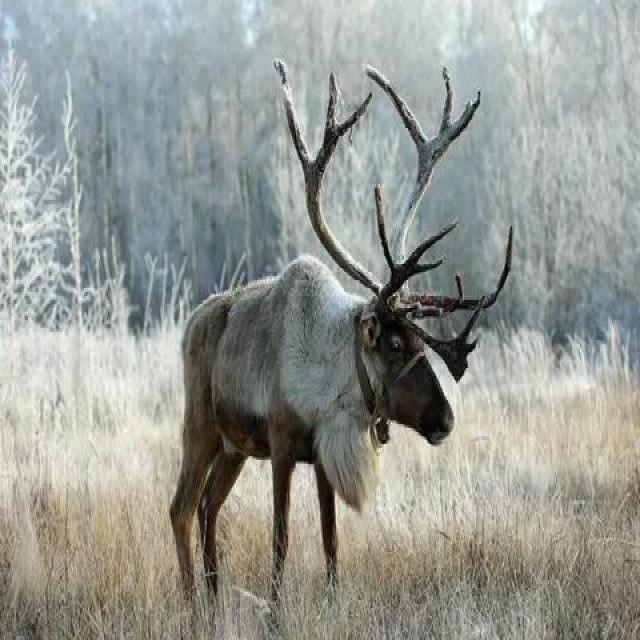deer: (153, 171, 492, 610)
